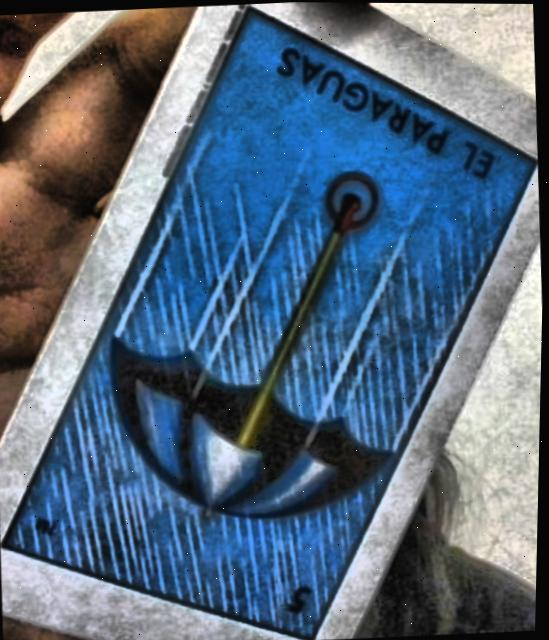El Paraguas: (2, 4, 537, 638)
